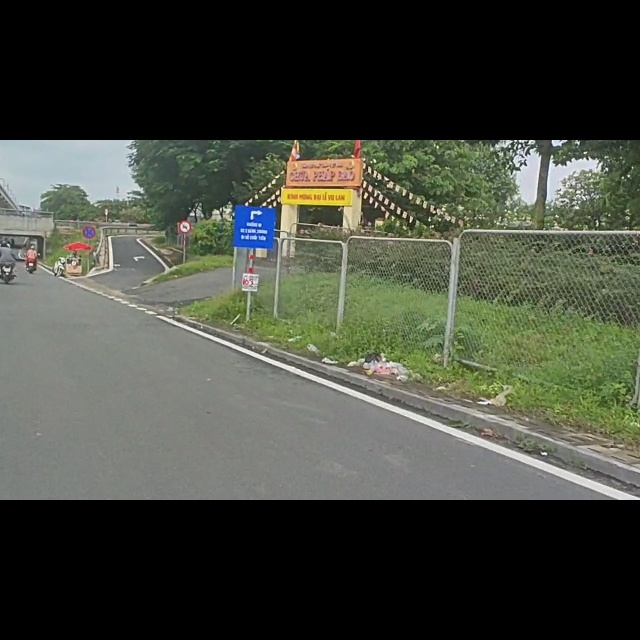bien_chi_dan: (179, 142, 192, 168), (83, 154, 95, 175)
